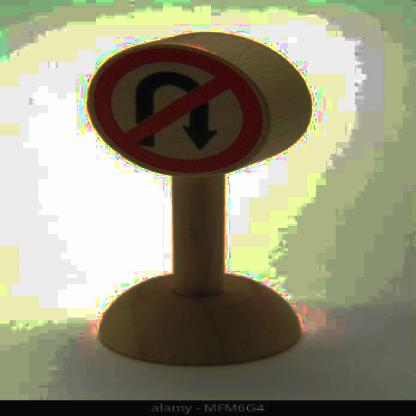No U-turn: (81, 35, 286, 181)
